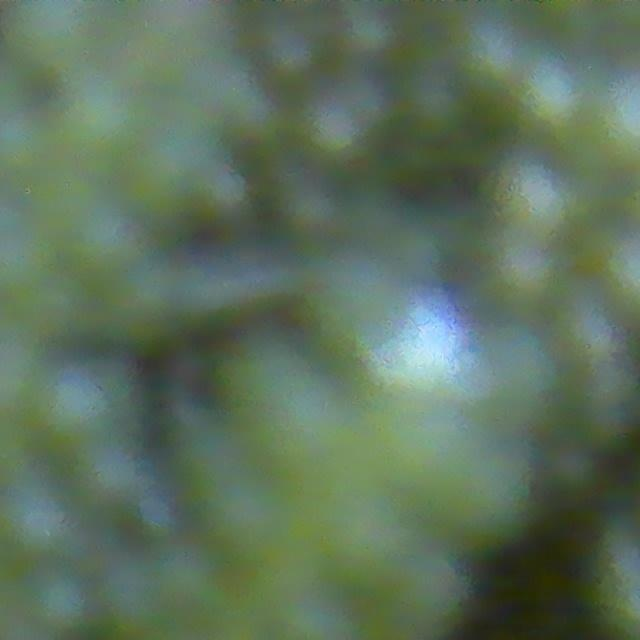SeaGrape: (295, 75, 391, 168), (31, 356, 123, 444), (387, 546, 474, 634), (503, 59, 586, 139), (487, 155, 563, 234), (0, 480, 72, 563), (23, 565, 95, 638), (485, 237, 557, 310), (255, 14, 323, 84), (591, 78, 640, 170), (555, 299, 620, 364)
